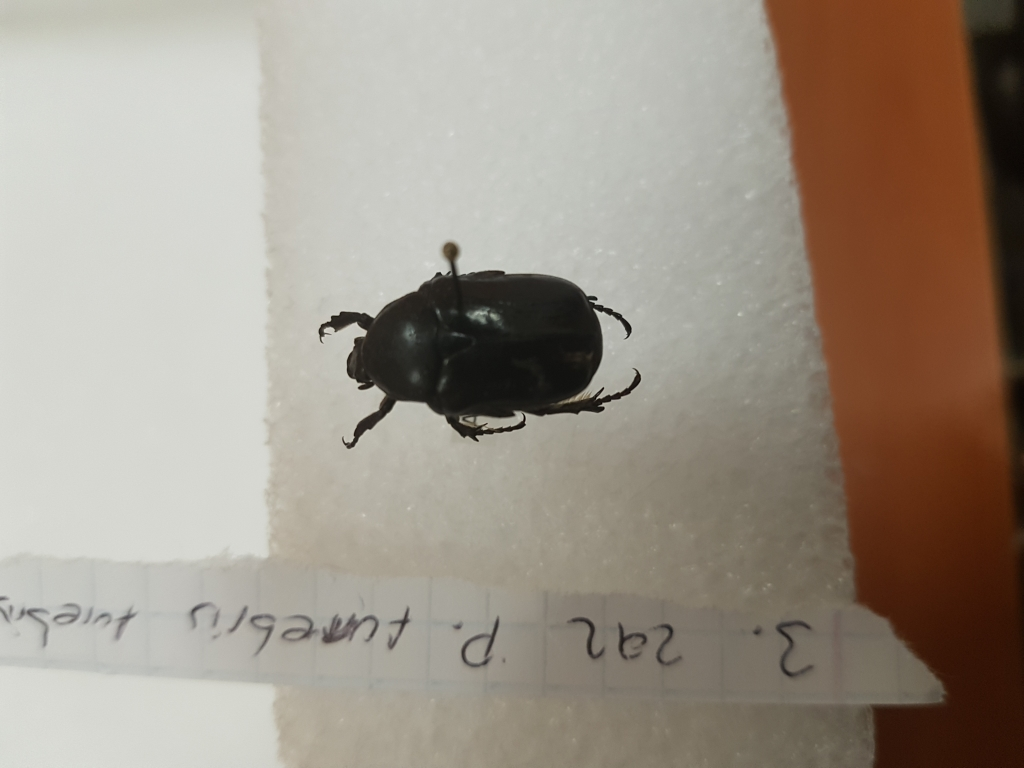Protaetia_funebris_funebris: (306, 254, 654, 460)
